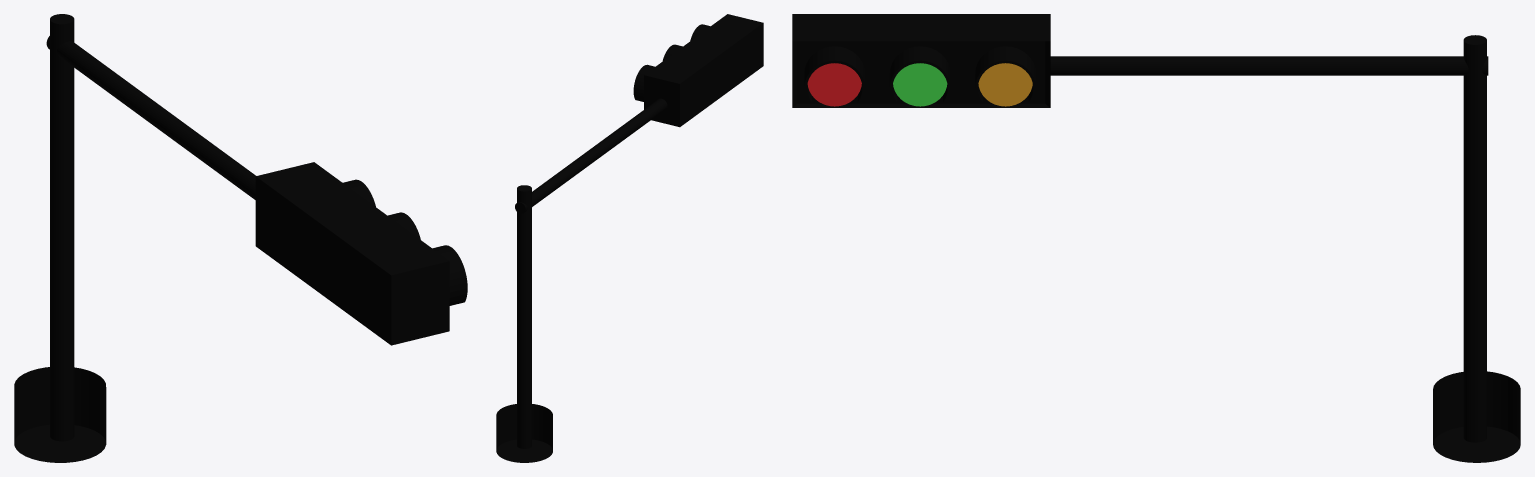
File: TrafficLights.fbx
3 renders of one model, left to right at view 1: azimuth 30°, elevation 25°; view 2: azimuth 150°, elevation 25°; view 3: azimuth 270°, elevation 25°, orthographic. The views are drawn at different scales.
Visible parts, largest first — view 1: Cube, Cylinder.001, Cube.001, Cylinder, Cylinder.002; view 2: Cube, Cylinder.001, Cube.001, Cylinder, Cylinder.002; view 3: Cube, Cylinder.001, Cylinder, Cube.001, Cylinder.002, Cylinder.004, Cylinder.006, Cylinder.005.
Boxes of the visible parts, x1,y1,x2,y2 form: Cube: [255, 162, 449, 345]; Cylinder.001: [50, 14, 74, 441]; Cube.001: [14, 367, 106, 462]; Cylinder: [46, 36, 255, 199]; Cylinder.002: [343, 179, 467, 305]; Cube: [644, 14, 763, 127]; Cylinder.001: [517, 185, 531, 448]; Cube.001: [496, 404, 552, 462]; Cylinder: [515, 98, 667, 213]; Cylinder.002: [633, 24, 710, 101]; Cube: [792, 14, 1050, 107]; Cylinder.001: [1463, 35, 1486, 442]; Cylinder: [1050, 56, 1488, 75]; Cube.001: [1433, 371, 1520, 462]; Cylinder.002: [804, 46, 1035, 103]; Cylinder.004: [807, 63, 861, 106]; Cylinder.006: [978, 63, 1032, 106]; Cylinder.005: [893, 63, 947, 106].
Bounding box in the file's own units: 237 × 1049 × 1659.
